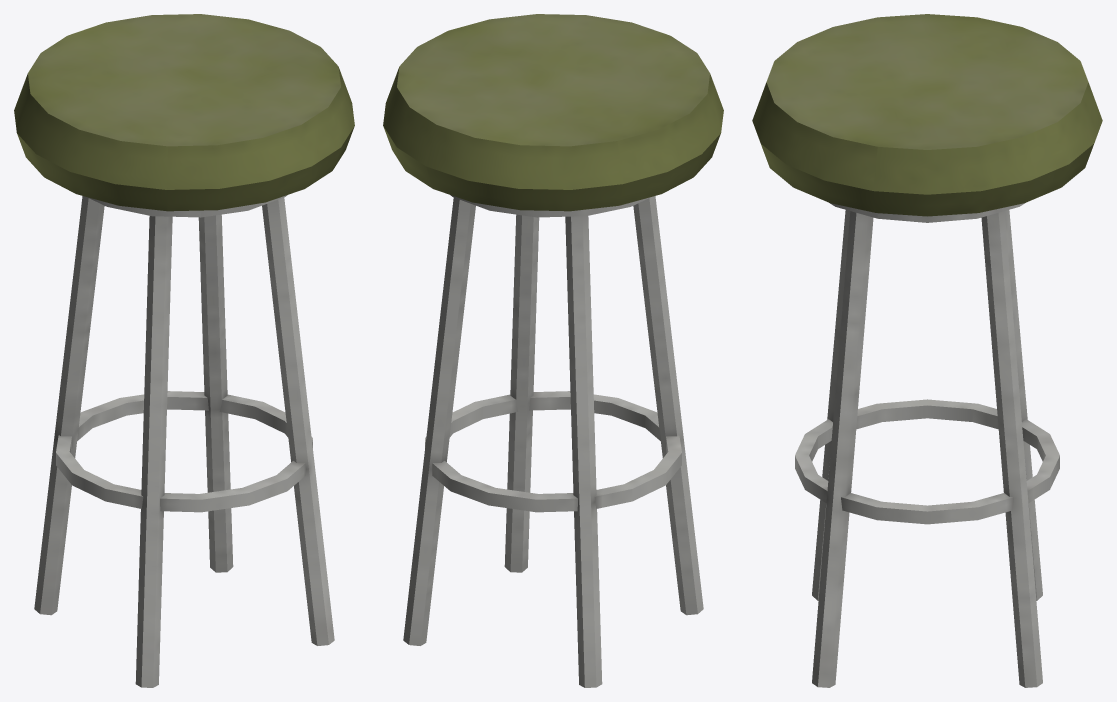
File: H_BarStool.fbx
The picture shows the model from 3 angles, left to right: view 1: azimuth 30°, elevation 25°; view 2: azimuth 150°, elevation 25°; view 3: azimuth 270°, elevation 25°; orthographic projection. The views are drawn at different scales.
Parts seen in each view (by area): view 1: H_BarStool; view 2: H_BarStool; view 3: H_BarStool.
Boxes of the visible parts, x1,y1,x2,y2 form: H_BarStool: (14,14,354,687); H_BarStool: (383,14,723,687); H_BarStool: (752,14,1102,687).
Size of the model in its own units: 148 by 261 by 148.
Materials: 1 (1 with a texture image).
